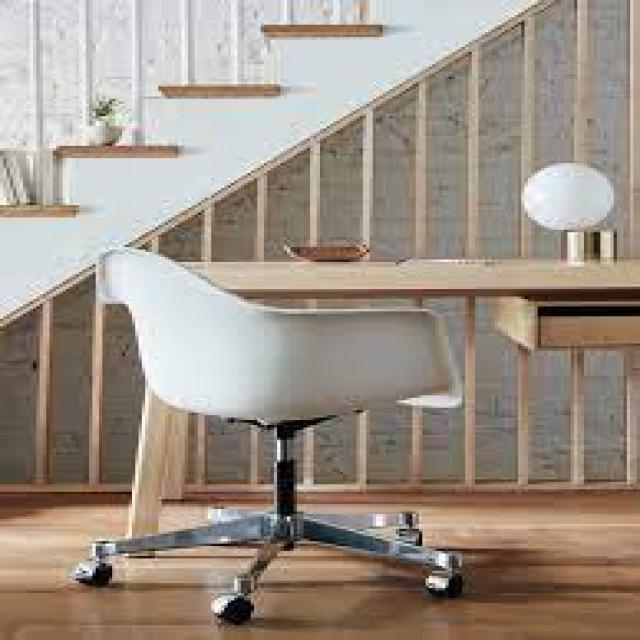chair: (33, 207, 524, 640)
